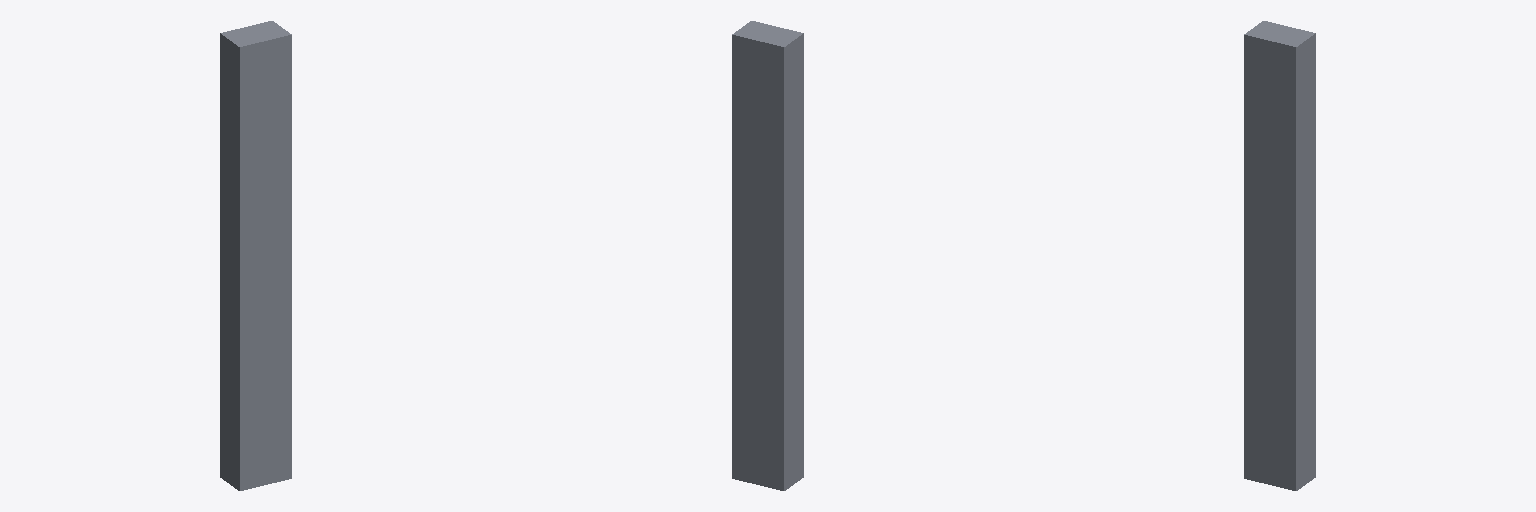
robot.urdf — artmanip_knife_000:
<?xml version='1.0' encoding='utf-8'?>
<robot name="artmanip_knife_000"><link name="link_0"><inertial><mass value="0.027621050752779413" /><inertia ixx="4.3169624487923564e-05" iyy="4.355263587449521e-05" izz="9.16324673528312e-07" ixy="0" ixz="0" iyz="0" /></inertial><visual><geometry><box size="0.01680027044818148 0.010763331818276637 0.13652563117804603" /></geometry><material name="link_0_color"><color rgba=".58 .60 .64 1" /></material></visual><collision><geometry><box size="0.01680027044818148 0.010763331818276637 0.13652563117804603" /></geometry></collision></link><link name="link_1"><inertial><mass value="0.006" /><inertia ixx="4.545e-07" iyy="5e-07" izz="5.45e-08" ixy="0" ixz="0" iyz="0" /></inertial><visual><geometry><mesh filename="slider-shoulder.obj" /></geometry><material name="link_1_color"><color rgba=".12 .13 .15 1" /></material></visual><collision><geometry><mesh filename="slider-shoulder.obj" /></geometry></collision></link><joint name="slider" type="prismatic"><parent link="link_0" /><child link="link_1" /><origin xyz="0.0004676151088579834 0.006364603731610858 0.01232246183607308" /><axis xyz="0 0 1" /><limit lower="-0.03267458688196273" upper="0.017325413118037272" effort="100" velocity="1" /><dynamics damping="1000" friction="0.001" /></joint></robot>

--- Facts derived from the render (not from the file) ---
3 views of the same robot in one strip: view 1: azimuth 30°, elevation 25°; view 2: azimuth 150°, elevation 25°; view 3: azimuth 330°, elevation 25° (orthographic).
Robot: artmanip_knife_000 — 2 links, 1 joints (1 prismatic); root link link_0; default pose: every joint at zero.
Links seen in each view (by area): view 1: link_0; view 2: link_0; view 3: link_0.
Boxes of the visible links, x1,y1,x2,y2 form: link_0: (220,21,291,490); link_0: (732,21,803,490); link_0: (1244,21,1315,490).
Size in the robot's own frame: 0.0168 by 0.0108 by 0.1365 metres.
Meshes: 1 distinct files referenced, 0 mesh visuals loaded (none loaded); not drawn: 1 (reference not matched to a file when rendering).
